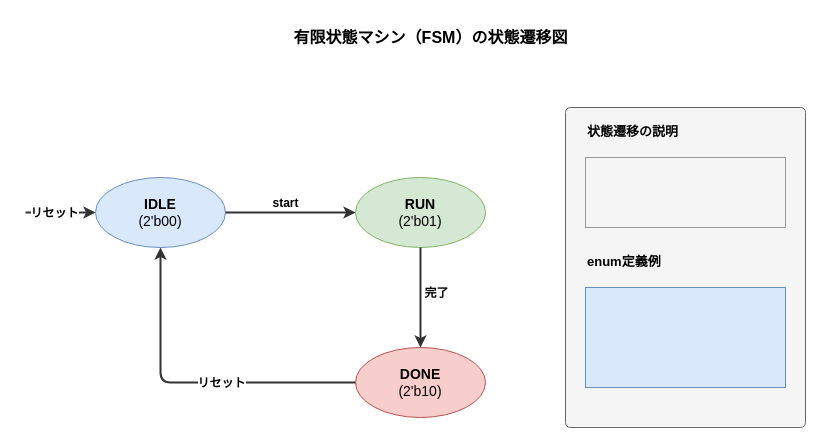
Image size: 823x445. Some labels were removed from this diagram. The shapes that lost their labels are listed below. From the top down, each one's centre as x and y in pixels, then its label:
the point at 685,192: IDLE → RUN : start信号で開始 RUN → DONE : 処理完了 DONE → IDLE : リセット
the point at 685,337: typedef enum logic [1:0] { IDLE = 2'b00, RUN = 2'b01, DONE = 2'b10 } state_t;
